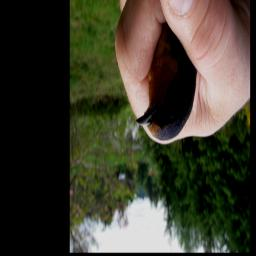Swallow: (134, 21, 199, 144)
